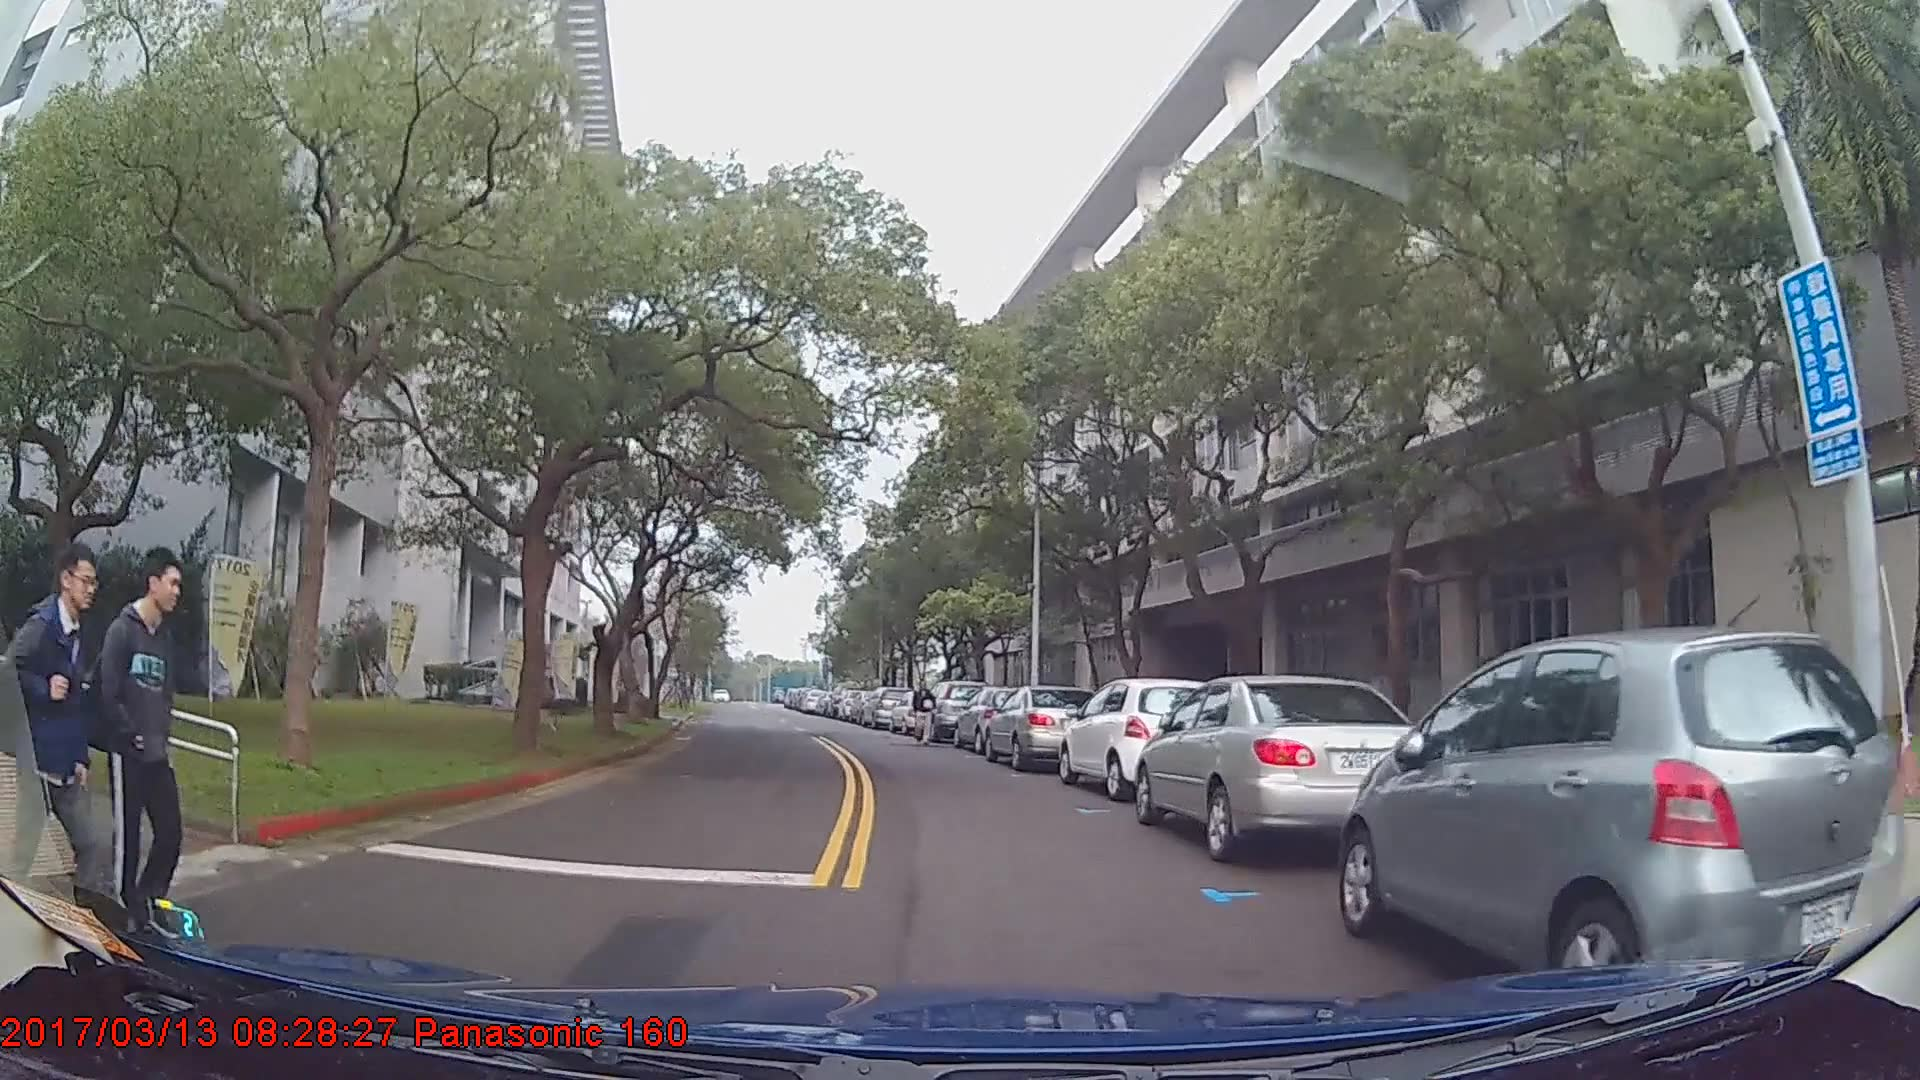pedestrian: (14, 545, 146, 955), (87, 543, 189, 963), (910, 675, 937, 746)
vehicle: (1340, 624, 1905, 1009), (1135, 672, 1441, 863), (1060, 675, 1221, 803), (984, 682, 1096, 769), (950, 685, 1047, 756), (921, 678, 985, 743), (861, 684, 911, 729)
